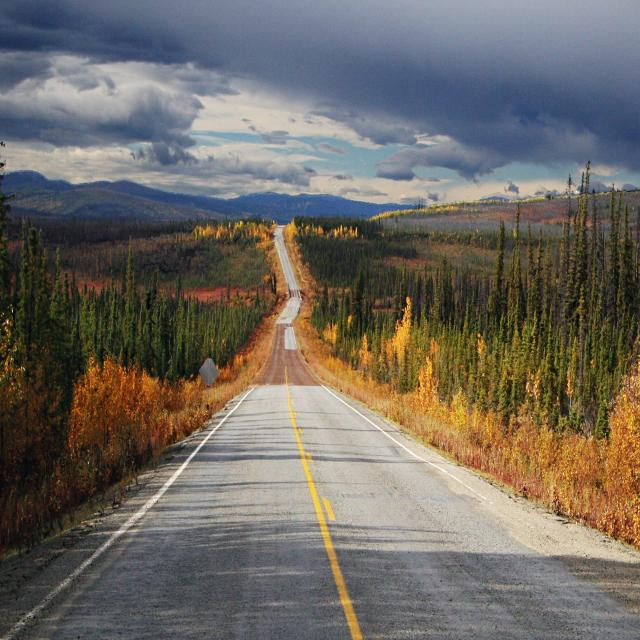Clean road: (0, 286, 640, 640)
